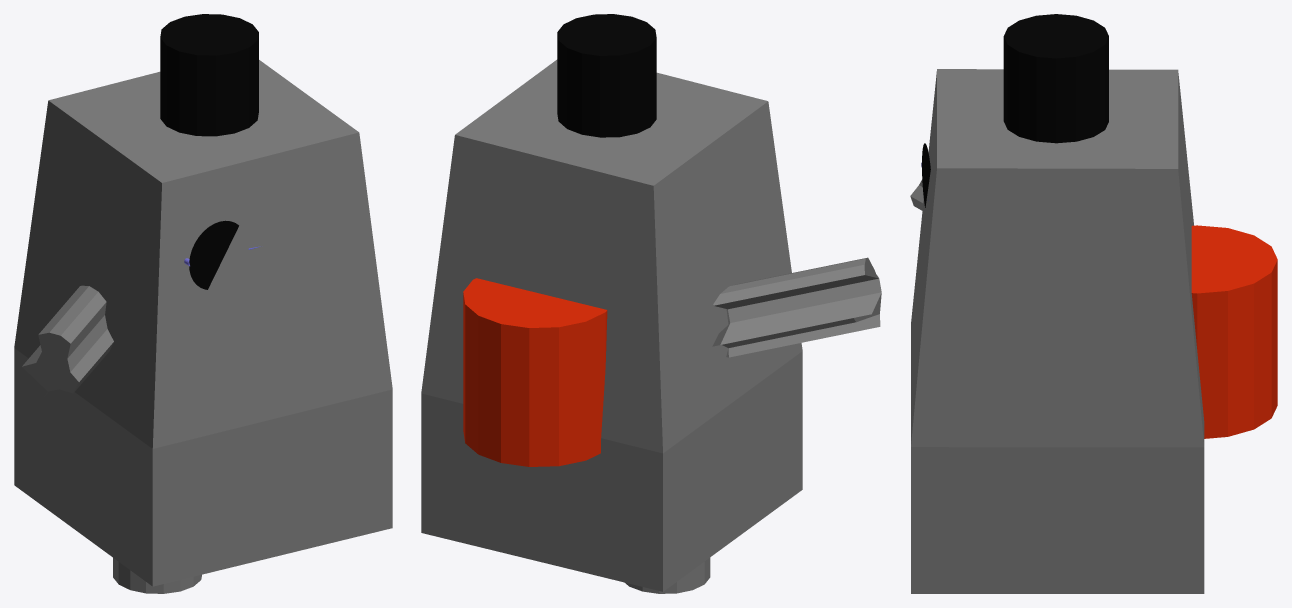
Rendered from animacion.glb.
3 views of the same model, side by side, from view 1: azimuth 30°, elevation 25°; view 2: azimuth 150°, elevation 25°; view 3: azimuth 270°, elevation 25° (orthographic). The views are drawn at different scales.
Visible parts, largest first — view 1: Cube, Cylinder.001, Cylinder.003, Circle.001, Cylinder; view 2: Cube, Cylinder.002, Cylinder.001, Cylinder.003, Cylinder; view 3: Cube, Cylinder.002, Cylinder.001.
Boxes of the visible parts, box(x1,y1,x2,y2) form: Cube: box(14, 60, 392, 586); Cylinder.001: box(160, 14, 258, 136); Cylinder.003: box(22, 285, 113, 397); Circle.001: box(189, 220, 238, 289); Cylinder: box(113, 558, 201, 593); Cube: box(421, 59, 802, 591); Cylinder.002: box(463, 278, 607, 466); Cylinder.001: box(557, 14, 656, 137); Cylinder.003: box(712, 257, 881, 357); Cylinder: box(625, 557, 710, 593); Cube: box(911, 69, 1204, 593); Cylinder.002: box(1191, 225, 1277, 438); Cylinder.001: box(1003, 14, 1108, 143).
Bounding box in the file's own units: 2.83 × 4.18 × 2.5.
